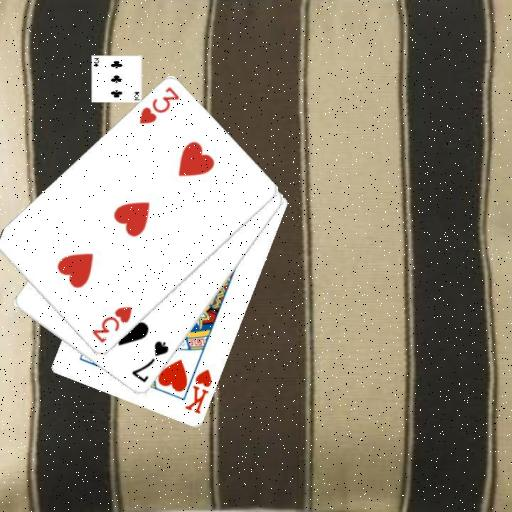3H: (88, 303, 134, 345), (136, 84, 182, 126)
7S: (129, 338, 171, 385)
KH: (182, 366, 214, 416)
